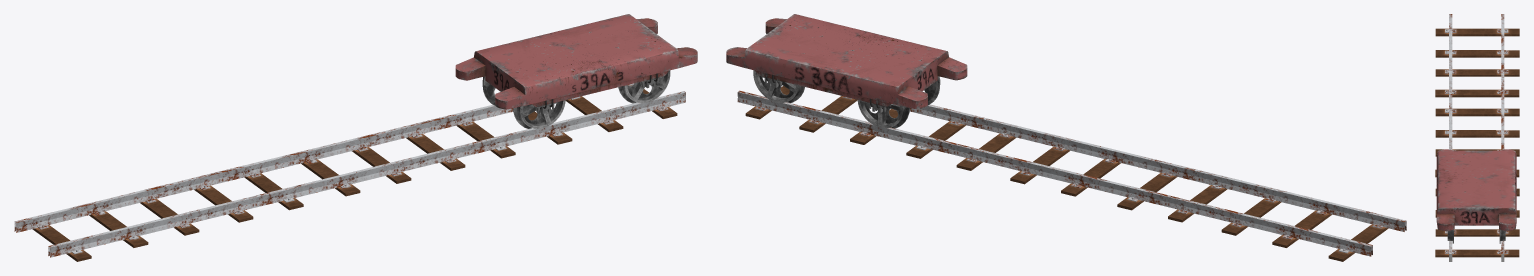
File: SM_Carriage.gltf
The picture shows the model from 3 angles, left to right: view 1: azimuth 30°, elevation 25°; view 2: azimuth 150°, elevation 25°; view 3: azimuth 270°, elevation 25°; orthographic projection. The views are drawn at different scales.
Parts seen in each view (by area): view 1: SM_TrainTrack, SM_Deck, SM_Wheels_Front, SM_Wheels_Rear; view 2: SM_TrainTrack, SM_Deck, SM_Wheels_Front, SM_Wheels_Rear; view 3: SM_TrainTrack, SM_Deck, SM_Wheels_Rear.
Part boxes in pixels (<box>): SM_TrainTrack: <box>14,83,685,261</box>; SM_Deck: <box>455,14,697,113</box>; SM_Wheels_Front: <box>482,76,565,128</box>; SM_Wheels_Rear: <box>618,70,670,103</box>; SM_TrainTrack: <box>737,86,1406,261</box>; SM_Deck: <box>726,14,967,113</box>; SM_Wheels_Front: <box>857,76,940,128</box>; SM_Wheels_Rear: <box>753,70,804,102</box>; SM_TrainTrack: <box>1435,14,1519,261</box>; SM_Deck: <box>1436,149,1516,230</box>; SM_Wheels_Rear: <box>1447,229,1505,243</box>.
Size of the model in its own units: 3.51 by 0.3348 by 0.5131.
2 materials, 2 textured.
